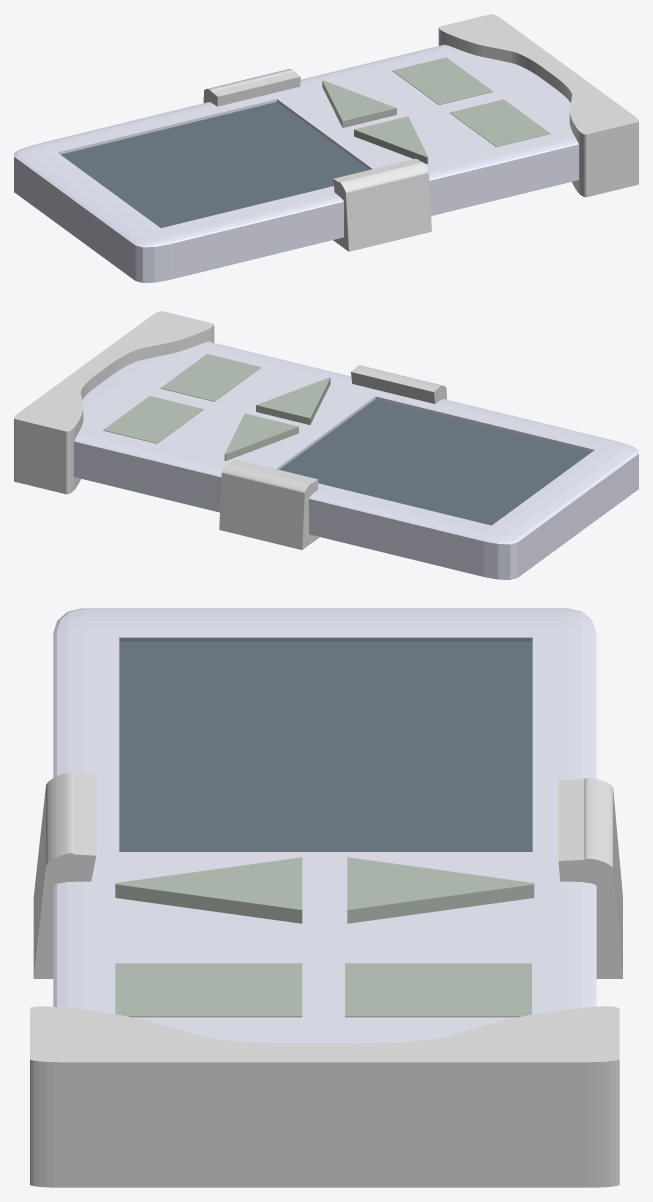
File: Rimocon2.fbx
3 views of the same model, one above another, from view 1: azimuth 30°, elevation 25°; view 2: azimuth 150°, elevation 25°; view 3: azimuth 270°, elevation 25° (orthographic). The views are drawn at different scales.
Visible parts, largest first — view 1: 立方体, 立方体.006, 立方体.005, 立方体.004, 立方体.001, 立方体.003, 立方体.002; view 2: 立方体, 立方体.006, 立方体.005, 立方体.004, 立方体.001, 立方体.003, 立方体.002; view 3: 立方体, 立方体.006, 立方体.005, 立方体.001, 立方体.004, 立方体.002, 立方体.003.
Part boxes in pixels (left/top/right/bottom): 立方体: left=14, top=44, right=578, bottom=282; 立方体.006: left=438, top=14, right=638, bottom=197; 立方体.005: left=203, top=69, right=431, bottom=251; 立方体.004: left=392, top=57, right=493, bottom=104; 立方体.001: left=450, top=99, right=550, bottom=147; 立方体.003: left=322, top=80, right=396, bottom=127; 立方体.002: left=354, top=116, right=428, bottom=163; 立方体: left=74, top=341, right=638, bottom=579; 立方体.006: left=14, top=311, right=214, bottom=494; 立方体.005: left=219, top=365, right=446, bottom=549; 立方体.004: left=103, top=396, right=203, bottom=443; 立方体.001: left=160, top=354, right=261, bottom=401; 立方体.003: left=224, top=413, right=298, bottom=460; 立方体.002: left=256, top=377, right=330, bottom=424; 立方体: left=53, top=608, right=596, bottom=1043; 立方体.006: left=30, top=1006, right=619, bottom=1187; 立方体.005: left=33, top=772, right=622, bottom=978; 立方体.001: left=115, top=963, right=302, bottom=1017; 立方体.004: left=345, top=963, right=531, bottom=1017; 立方体.002: left=115, top=857, right=302, bottom=923; 立方体.003: left=347, top=857, right=534, bottom=923.
Size of the model in its own units: 3.29 by 0.4168 by 1.71.
